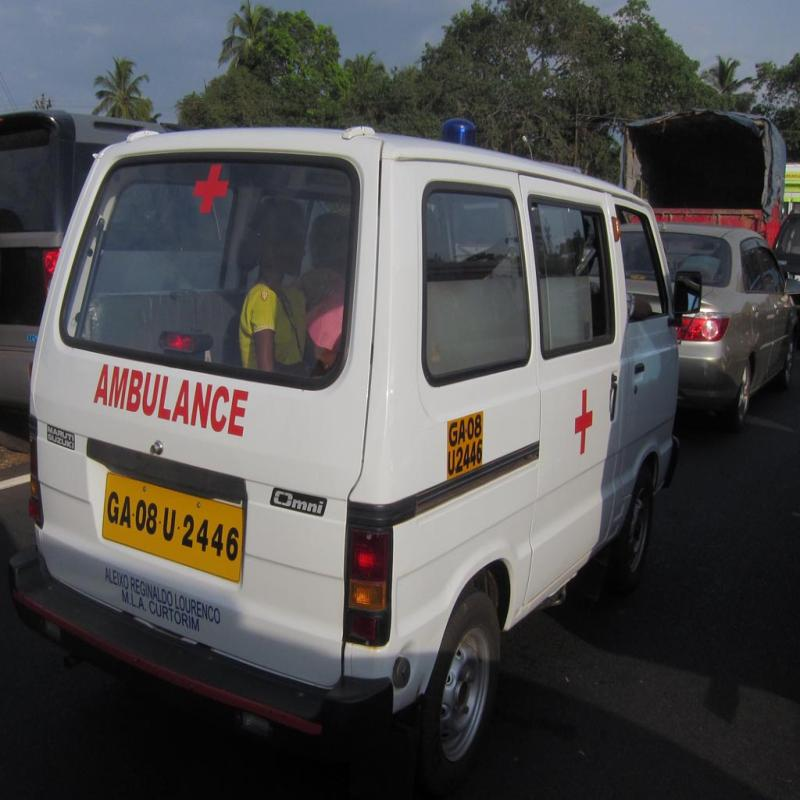ambulance: (4, 102, 714, 754)
